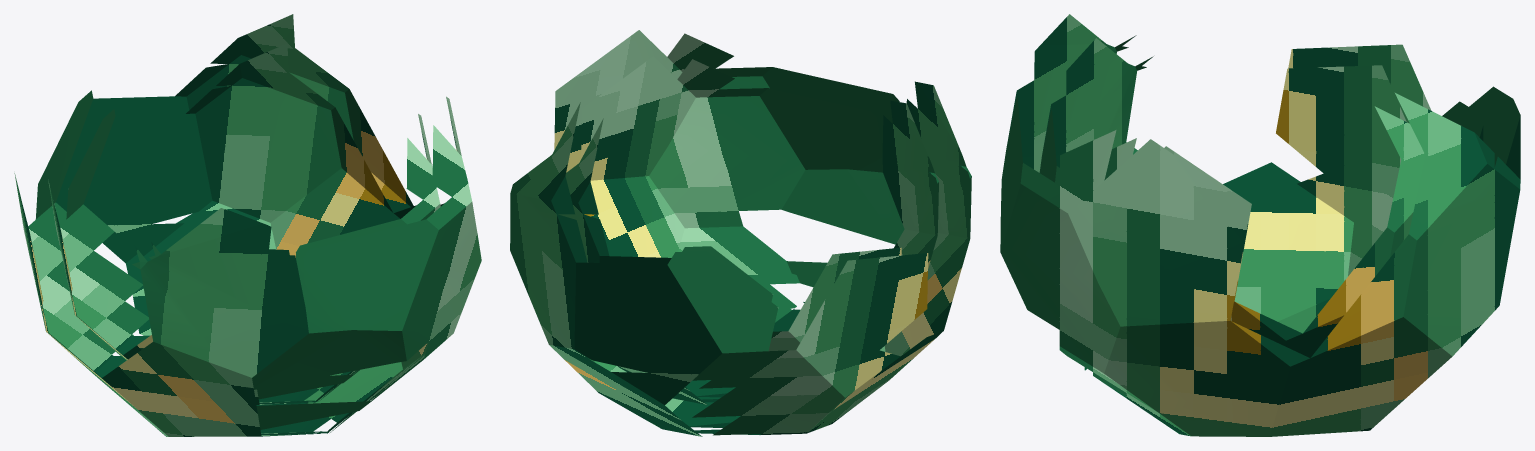
The model's file is delta_orb_4.obj.
The picture shows the model from 3 angles, left to right: view 1: azimuth 30°, elevation 25°; view 2: azimuth 150°, elevation 25°; view 3: azimuth 270°, elevation 25°; orthographic projection. The views are drawn at different scales.
Visible parts, largest first — view 1: pSolid4; view 2: pSolid4; view 3: pSolid4.
Part boxes in pixels (x1,y1,x2,y2): pSolid4: (14,14,481,436); pSolid4: (510,30,971,436); pSolid4: (1000,14,1520,436).
Bounding box in the file's own units: 0.8449 × 0.6899 × 0.8248.
